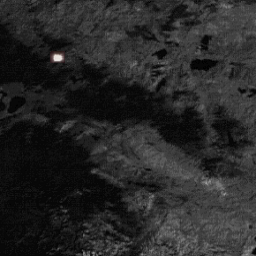Target: (52, 52, 64, 64)
